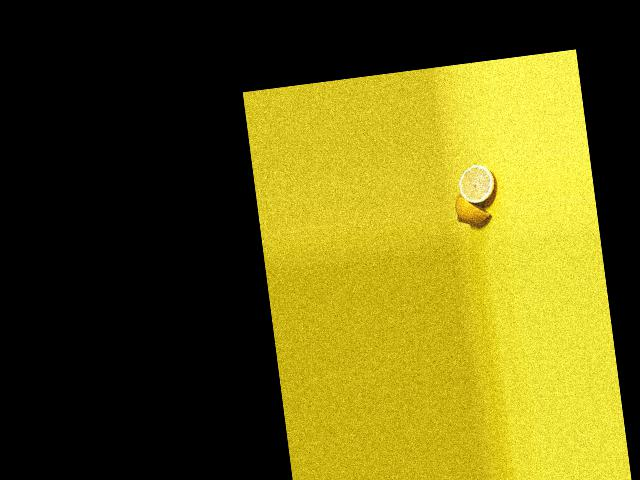lemon: (452, 188, 495, 228)
